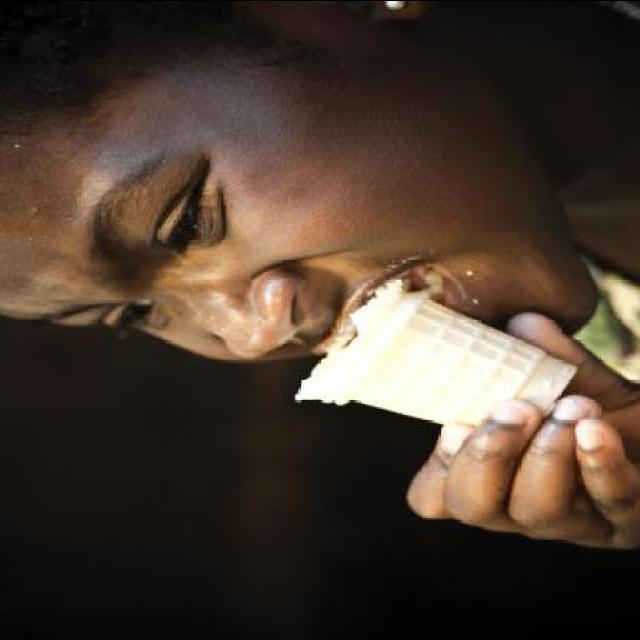Ice cream: (296, 275, 578, 427)
